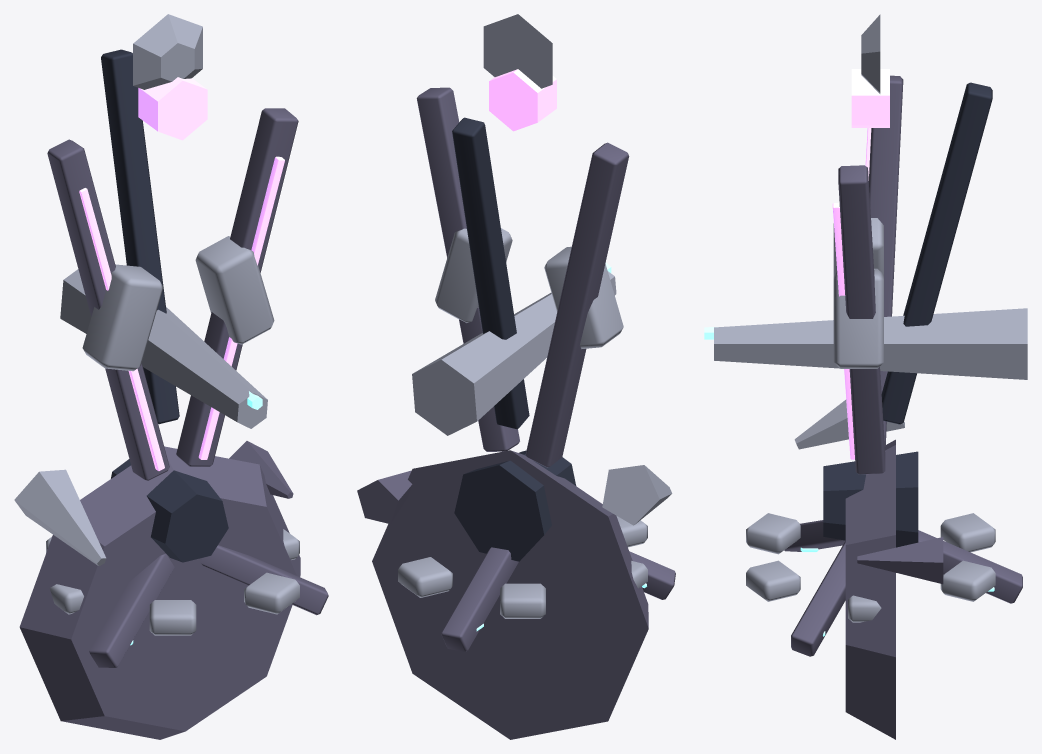
File: storm-array.glb
The picture shows the model from 3 angles, left to right: view 1: azimuth 30°, elevation 25°; view 2: azimuth 150°, elevation 25°; view 3: azimuth 270°, elevation 25°; orthographic projection.
Parts seen in each view (by area): view 1: Octagonal rock socket, Inset armored collar, Dark service well, Rail inner conductor; view 2: Octagonal rock socket, Inset armored collar, Dark service well, Rail inner conductor; view 3: Octagonal rock socket, Inset armored collar, Dark service well, Rail inner conductor.
Part boxes in pixels (bbox=[...]): Octagonal rock socket: bbox=[19, 108, 328, 739]; Inset armored collar: bbox=[14, 14, 299, 635]; Dark service well: bbox=[101, 49, 228, 562]; Rail inner conductor: bbox=[79, 77, 284, 470]; Octagonal rock socket: bbox=[357, 87, 675, 739]; Inset armored collar: bbox=[398, 14, 672, 618]; Dark service well: bbox=[452, 117, 576, 561]; Rail inner conductor: bbox=[489, 69, 556, 131]; Octagonal rock socket: bbox=[784, 75, 1022, 739]; Inset armored collar: bbox=[714, 14, 1027, 622]; Dark service well: bbox=[823, 82, 992, 547]; Rail inner conductor: bbox=[832, 69, 889, 459].
Size of the model in its own units: 2.22 by 5.37 by 2.18.
